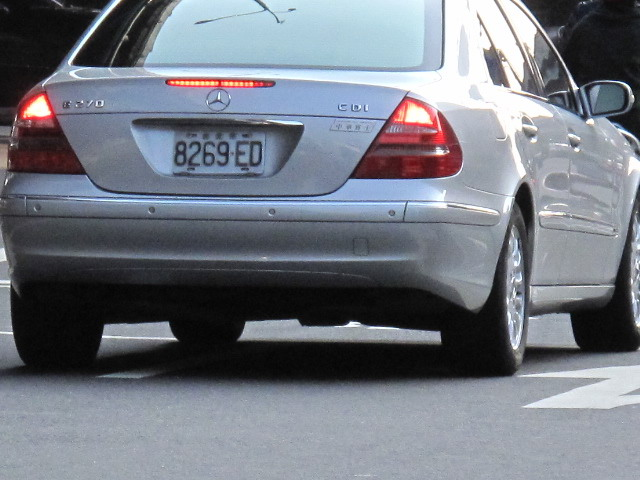plate: (170, 127, 267, 178)
